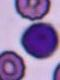L: (21, 22, 59, 58)
